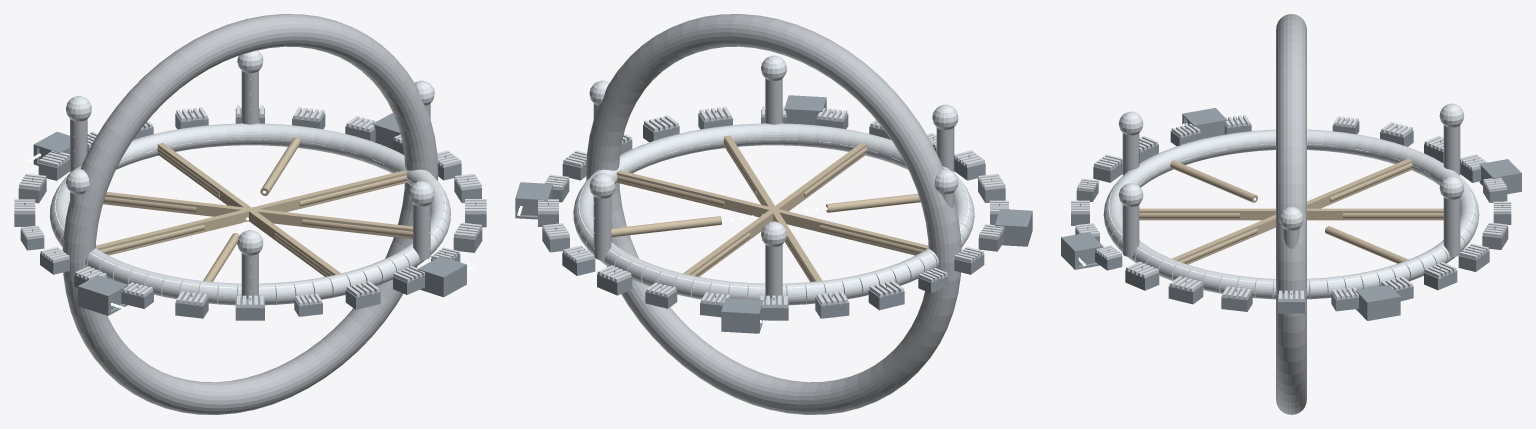
The model's file is space_orbital_ring.glb.
3 renders of one model, left to right at view 1: azimuth 30°, elevation 25°; view 2: azimuth 150°, elevation 25°; view 3: azimuth 270°, elevation 25°, orthographic. The views are drawn at different scales.
Parts seen in each view (by area): view 1: MainOrbitalRing, ConnectingBridge.002, ConnectingBridge, ConnectingBridge.001, DockingBay.002, DockingBay.003, Tower.001, Tower.005, Tower.002, Tower.004, DockingBay.001, RadialSpoke_7 (+15 smaller); view 2: MainOrbitalRing, ConnectingBridge.002, ConnectingBridge.001, ConnectingBridge, DockingBay.001, DockingBay.002, Tower.001, RadialSpoke_1, DockingBay, DockingBay.003, Tower.002, RadialSpoke_5 (+14 smaller); view 3: MainOrbitalRing, ConnectingBridge.001, ConnectingBridge, DockingBay, DockingBay.003, Tower.001, DockingBay.001, DockingBay.002, Tower.005, RadialSpoke_5, Tower.002, RadialSpoke_1 (+15 smaller).
Boxes of the visible parts, left/top/right/bottom form: MainOrbitalRing: left=62, top=14, right=438, bottom=414; ConnectingBridge.002: left=96, top=170, right=407, bottom=255; ConnectingBridge: left=103, top=192, right=412, bottom=239; ConnectingBridge.001: left=157, top=143, right=341, bottom=276; DockingBay.002: left=77, top=275, right=128, bottom=315; DockingBay.003: left=417, top=256, right=466, bottom=297; Tower.001: left=241, top=71, right=258, bottom=124; Tower.005: left=413, top=204, right=430, bottom=259; Tower.002: left=70, top=119, right=87, bottom=172; Tower.004: left=241, top=253, right=258, bottom=298; DockingBay.001: left=33, top=131, right=69, bottom=165; RadialSpoke_7: left=302, top=219, right=412, bottom=236; MainOrbitalRing: left=586, top=14, right=961, bottom=414; ConnectingBridge.002: left=616, top=170, right=928, bottom=255; ConnectingBridge.001: left=683, top=143, right=866, bottom=276; ConnectingBridge: left=724, top=135, right=822, bottom=281; DockingBay.001: left=721, top=298, right=763, bottom=333; DockingBay.002: left=995, top=209, right=1032, bottom=246; Tower.001: left=593, top=196, right=611, bottom=259; RadialSpoke_1: left=611, top=216, right=721, bottom=237; DockingBay: left=515, top=182, right=552, bottom=219; DockingBay.003: left=784, top=95, right=826, bottom=125; Tower.002: left=765, top=245, right=782, bottom=298; RadialSpoke_5: left=826, top=193, right=920, bottom=212; MainOrbitalRing: left=1276, top=14, right=1306, bottom=414; ConnectingBridge.001: left=1139, top=208, right=1443, bottom=220; ConnectingBridge: left=1172, top=158, right=1412, bottom=264; DockingBay: left=1355, top=284, right=1400, bottom=320; DockingBay.003: left=1061, top=232, right=1103, bottom=269; Tower.001: left=1443, top=197, right=1460, bottom=256; DockingBay.001: left=1479, top=159, right=1521, bottom=194; DockingBay.002: left=1182, top=108, right=1227, bottom=139; Tower.005: left=1122, top=205, right=1139, bottom=256; RadialSpoke_5: left=1170, top=160, right=1257, bottom=202; Tower.002: left=1443, top=125, right=1460, bottom=175; RadialSpoke_1: left=1325, top=226, right=1408, bottom=263.
Bounding box in the file's own units: 448 × 390 × 448.
